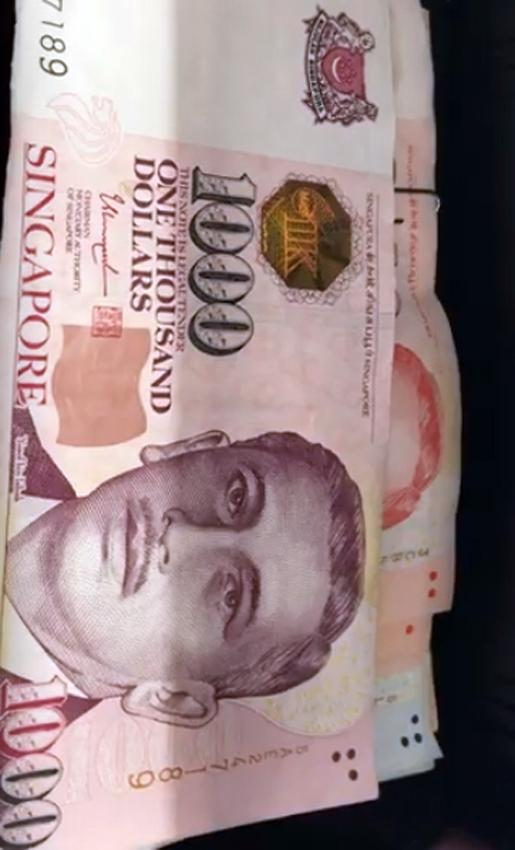1000SingaporeDollar: (0, 0, 393, 850)
